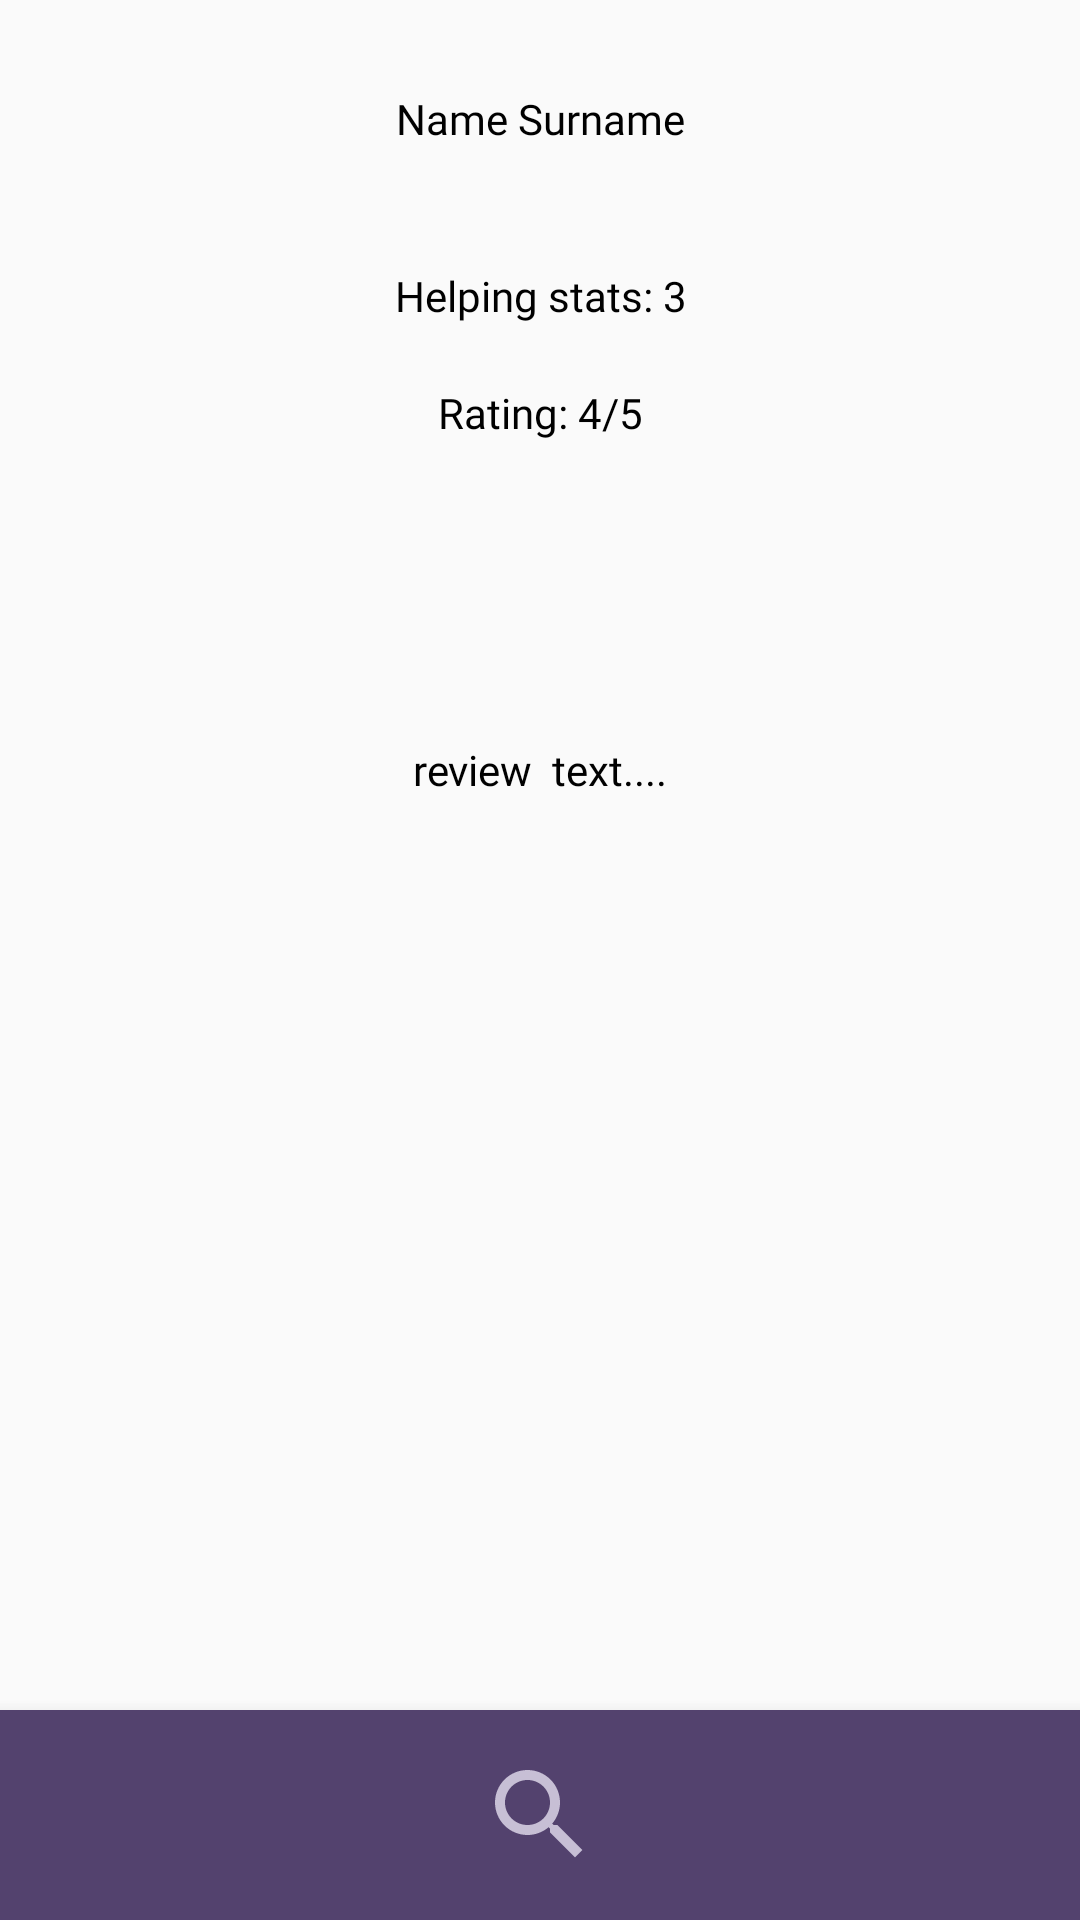

Icons on this 1080w x 1920h Android screen, each with its box as (x1, y1, x2, y2):
search: (495, 1770, 582, 1857)
